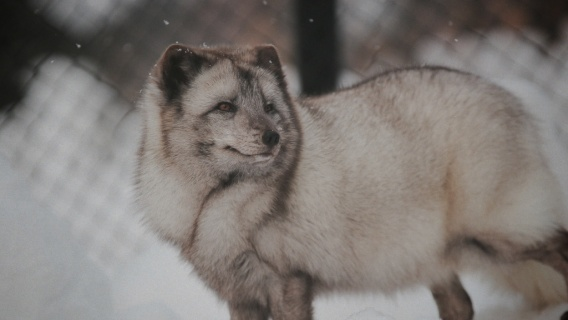Fox: (130, 42, 567, 318)
